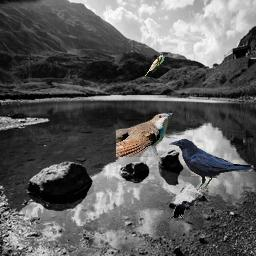Crow: (168, 138, 254, 192), (170, 200, 189, 222)
Cuckoo: (116, 113, 173, 157), (142, 52, 168, 80)
